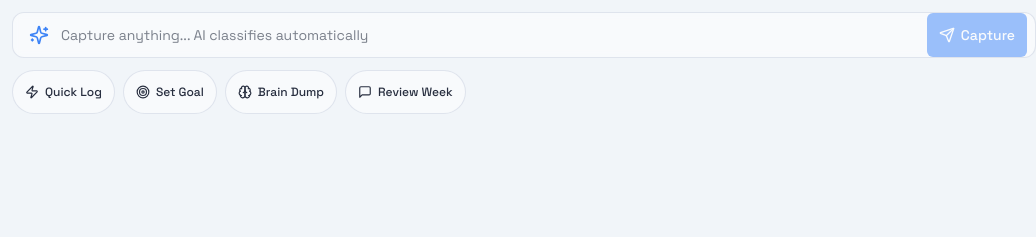
Test: SmartCapture › should show loading state after submit
This screenshot has width=1036, height=237.
In the field with placeholder "Capture anything... AI classifies automatically": (488, 35) [49,15,927,55], type "Study TypeScript"
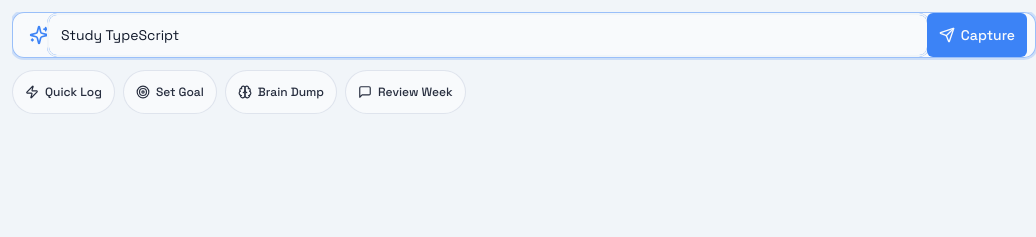
Click the button "Capture": (977, 35) [927,13,1027,57]
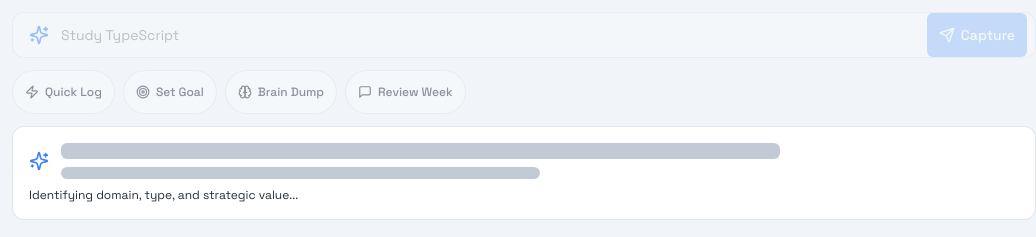
Now the field with placeholder "Capture anything... AI classifies automatically" is disabled, box [49,15,927,55]
